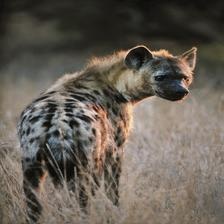hyena: (11, 40, 204, 224)
